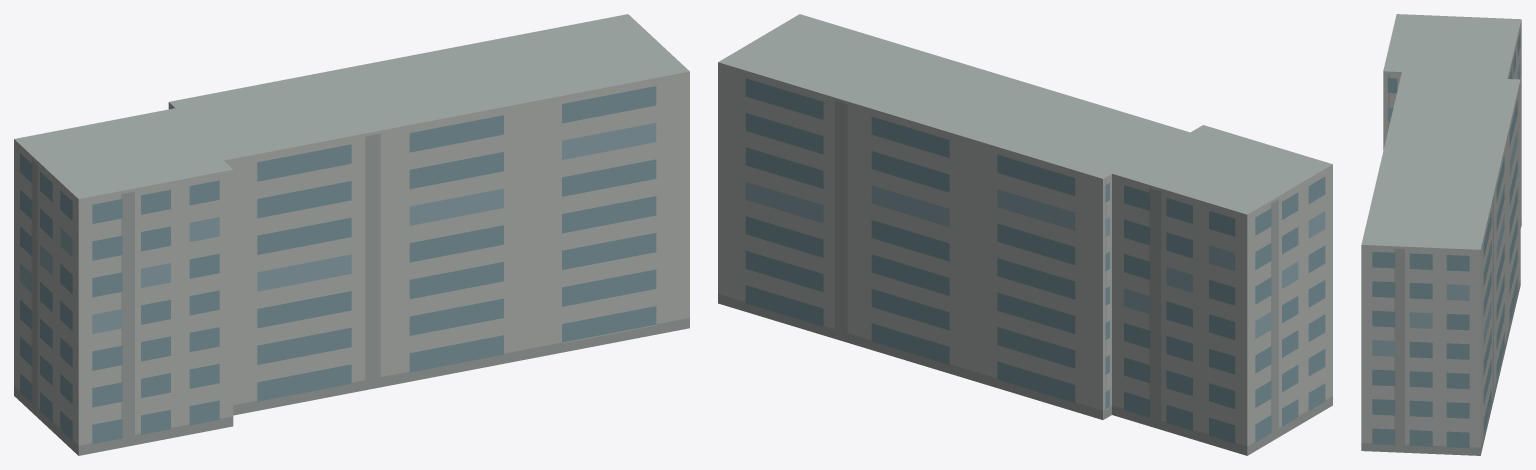
Rendered from survey-upis-32762621.glb.
3 renders of one model, left to right at view 1: azimuth 30°, elevation 25°; view 2: azimuth 150°, elevation 25°; view 3: azimuth 270°, elevation 25°, orthographic. The views are drawn at different scales.
Visible parts, largest first — view 1: survey-upis-32762621.tmp; view 2: survey-upis-32762621.tmp; view 3: survey-upis-32762621.tmp.
Part boxes in pixels (bbox=[...]): survey-upis-32762621.tmp: bbox=[14, 14, 689, 455]; survey-upis-32762621.tmp: bbox=[718, 14, 1332, 455]; survey-upis-32762621.tmp: bbox=[1361, 14, 1521, 455].
Size of the model in its own units: 48.96 by 19.95 by 14.06.
